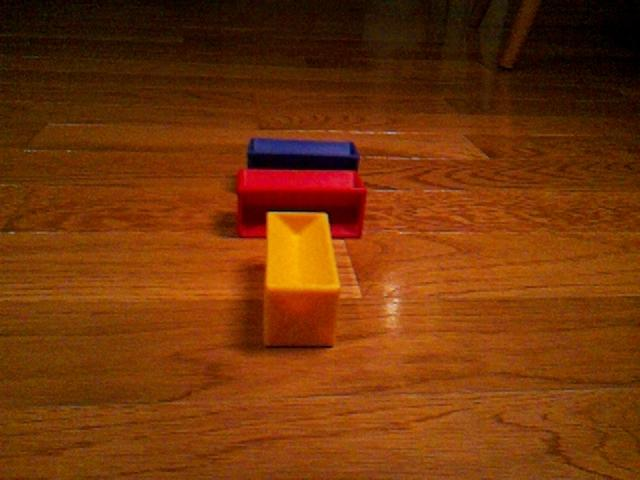blue: (246, 136, 361, 171)
red: (235, 167, 368, 240)
yellow: (262, 210, 342, 349)
